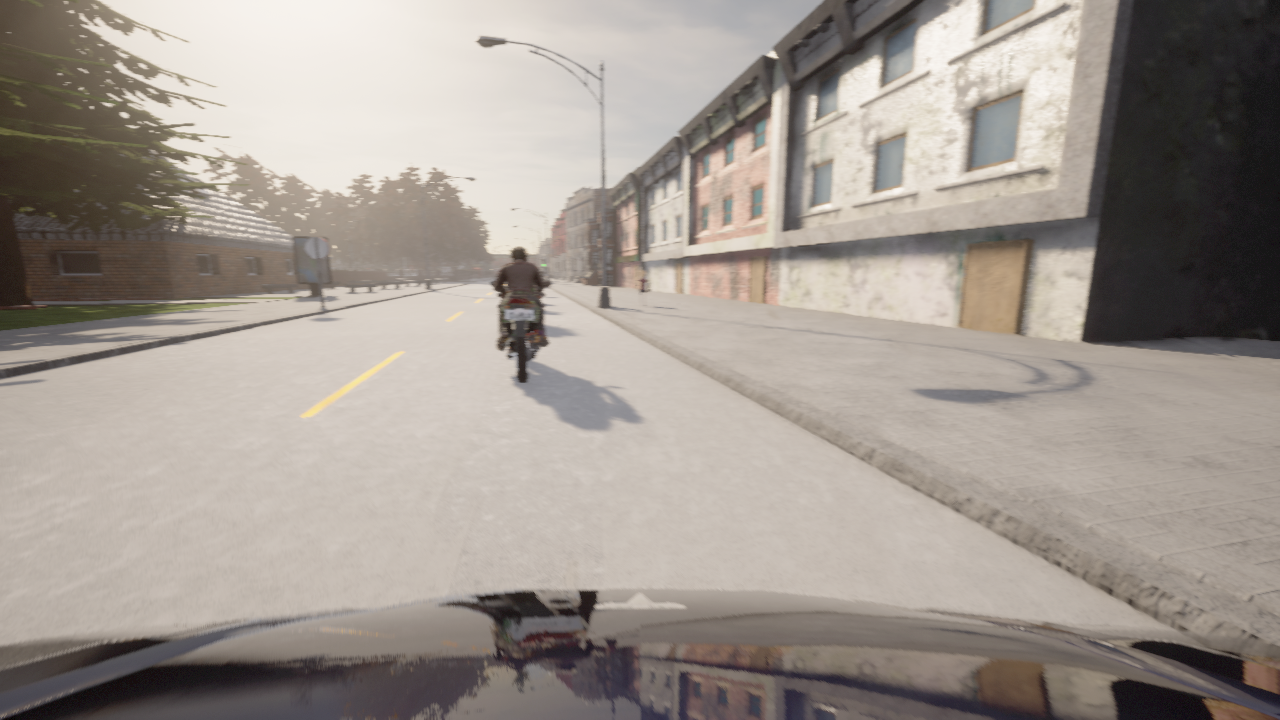cyclist: (0, 588, 1279, 719), (489, 281, 550, 382), (540, 274, 544, 281), (470, 278, 474, 281)
pedestrian: (636, 272, 649, 306)
